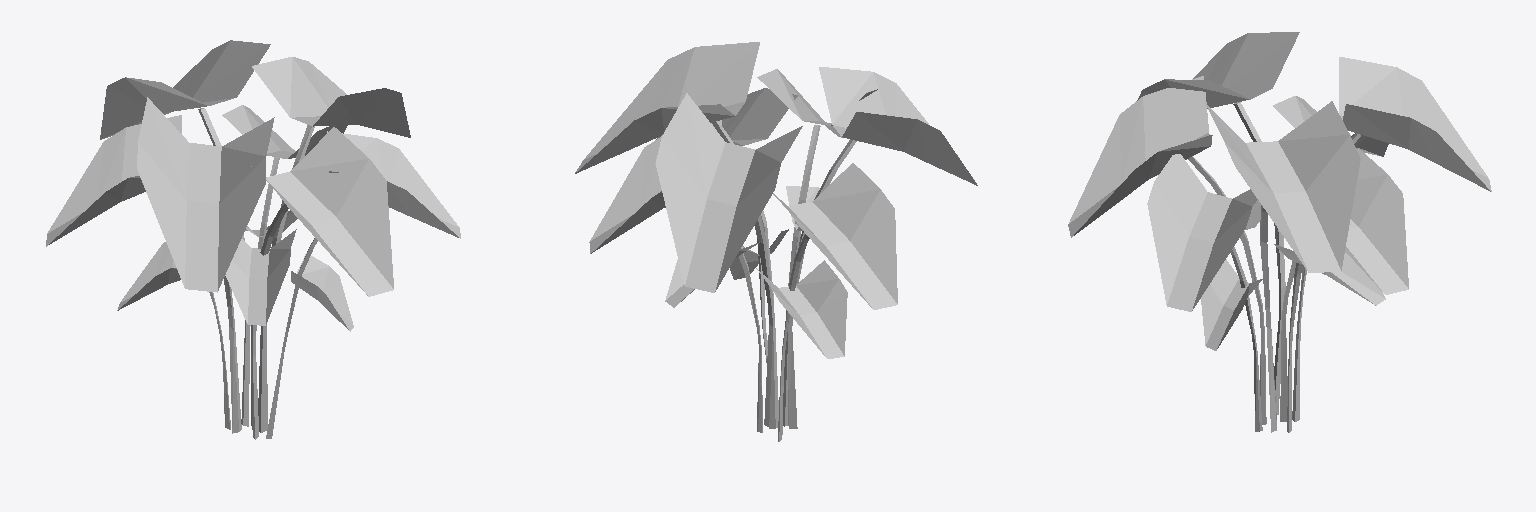
File: Plant_5.obj
3 renders of one model, left to right at view 1: azimuth 30°, elevation 25°; view 2: azimuth 150°, elevation 25°; view 3: azimuth 270°, elevation 25°, orthographic.
Parts seen in each view (by area): view 1: Plant_5; view 2: Plant_5; view 3: Plant_5.
Part boxes in pixels (x1,y1,x2,y2): Plant_5: (46,40,460,439); Plant_5: (575,42,977,441); Plant_5: (1068,32,1491,432).
Bounding box in the file's own units: 1.41 × 1.39 × 1.52.